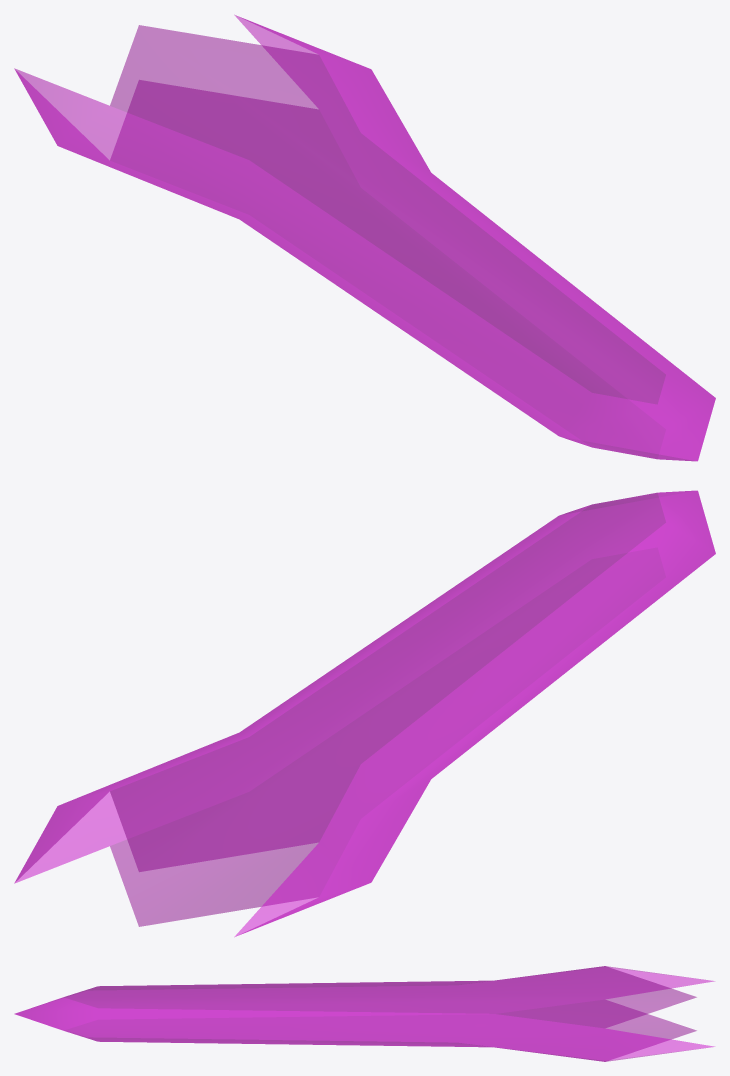
The model's file is Harold_Blade_Burst.FBX.
3 renders of one model, top to bottom at view 1: azimuth 30°, elevation 25°; view 2: azimuth 150°, elevation 25°; view 3: azimuth 270°, elevation 25°, orthographic. The views are drawn at different scales.
Parts seen in each view (by area): view 1: BladeBurst; view 2: BladeBurst; view 3: BladeBurst.
Boxes of the visible parts, box(x1,y1,x2,y2) form: BladeBurst: box(14, 15, 715, 461); BladeBurst: box(14, 490, 715, 936); BladeBurst: box(14, 966, 714, 1061).
Size of the model in its own units: 60 by 10 by 190.
